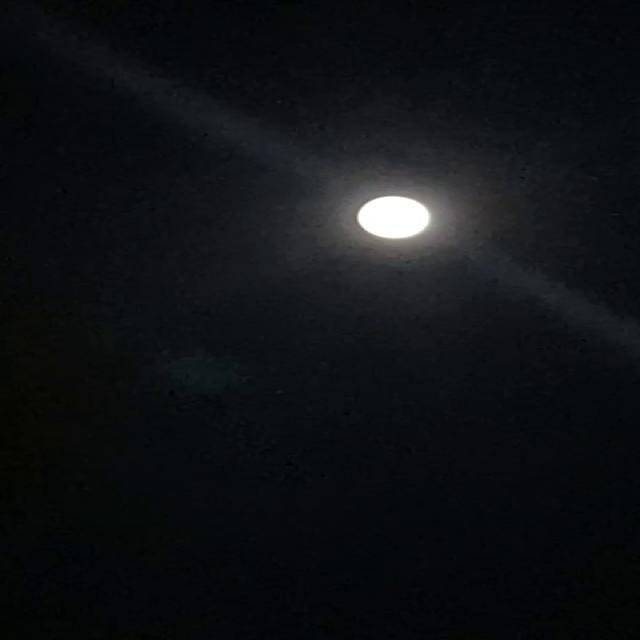moon: (352, 192, 468, 250)
